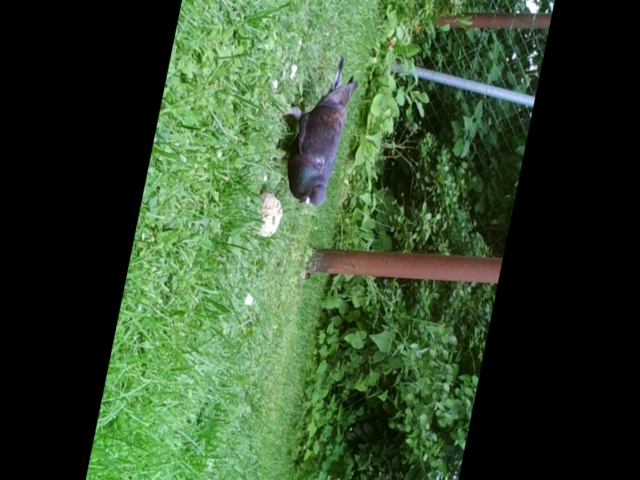Pigeon: (277, 52, 361, 209)
